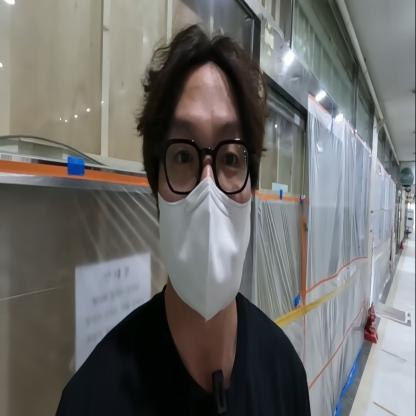streamer: (56, 24, 310, 416)
